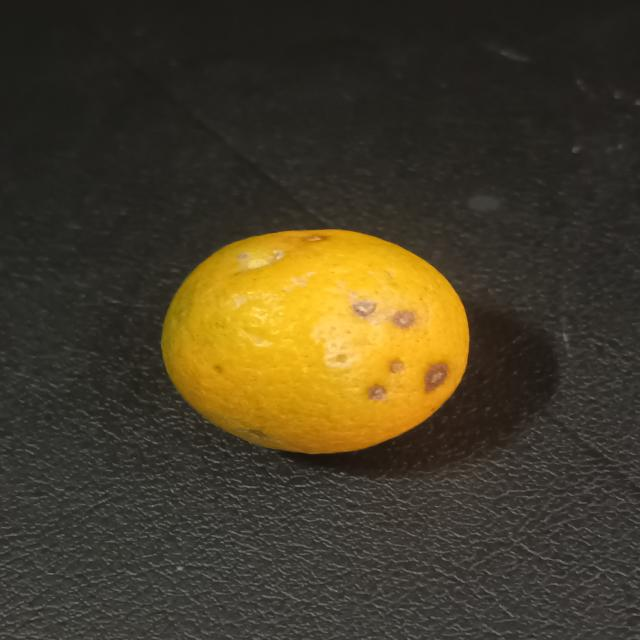black spot: (160, 231, 472, 459)
